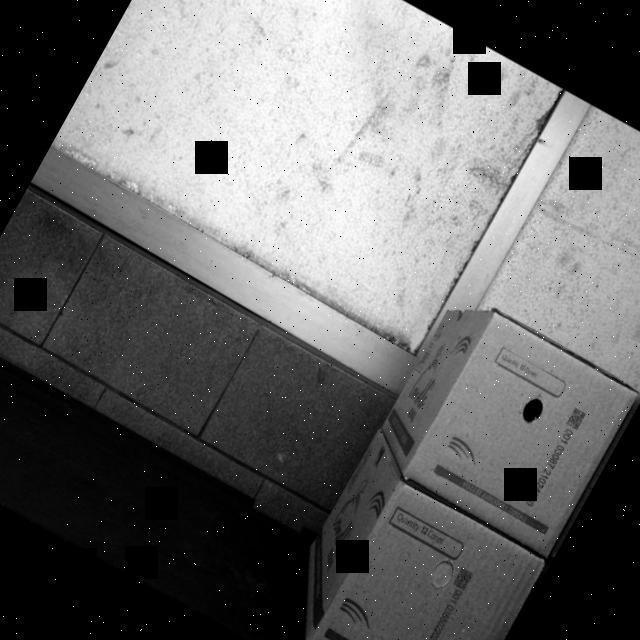box: (393, 304, 640, 565), (300, 489, 545, 640)
